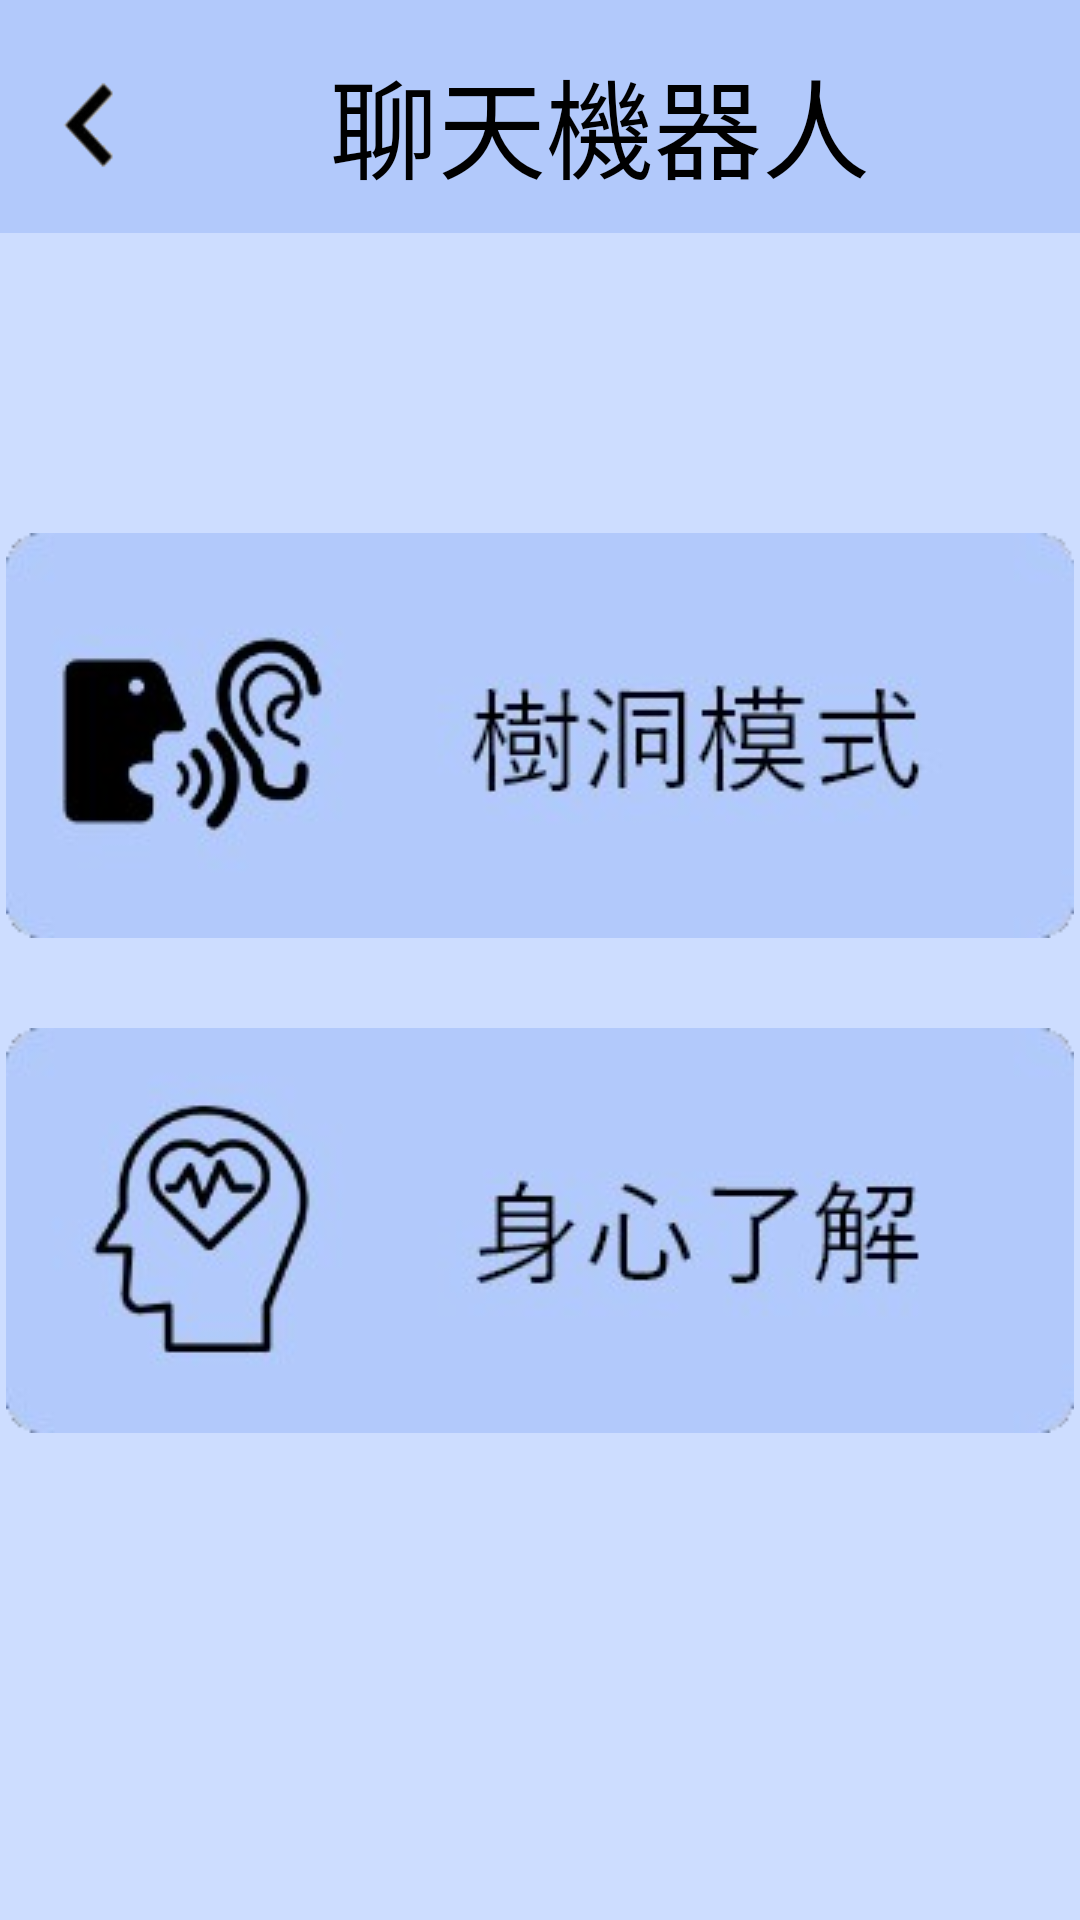

Icons on this 1080x1920 Android screen, each with the point to tap as (x=x, y=y):
back arrow: (x=88, y=125)
